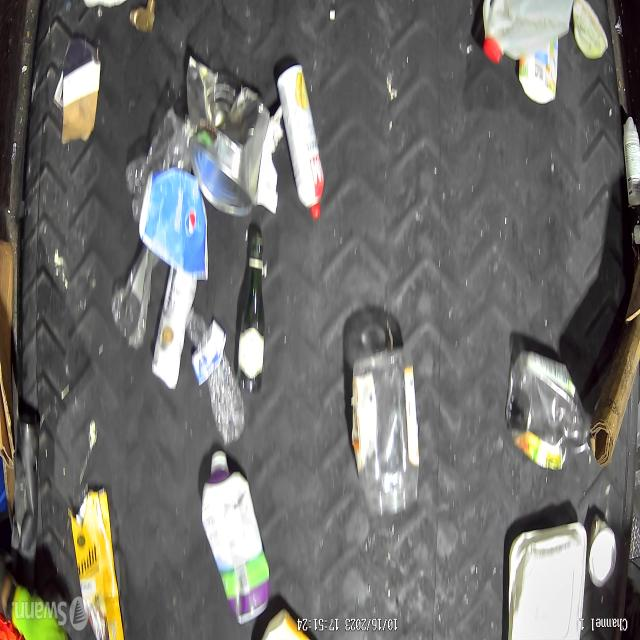can: (185, 55, 270, 218), (276, 64, 324, 222), (587, 512, 617, 588)
milk_jug: (482, 0, 576, 65)
non_white_jug: (200, 450, 270, 626)
plastic_bottle: (349, 345, 420, 518), (506, 352, 595, 474), (184, 308, 244, 446)
